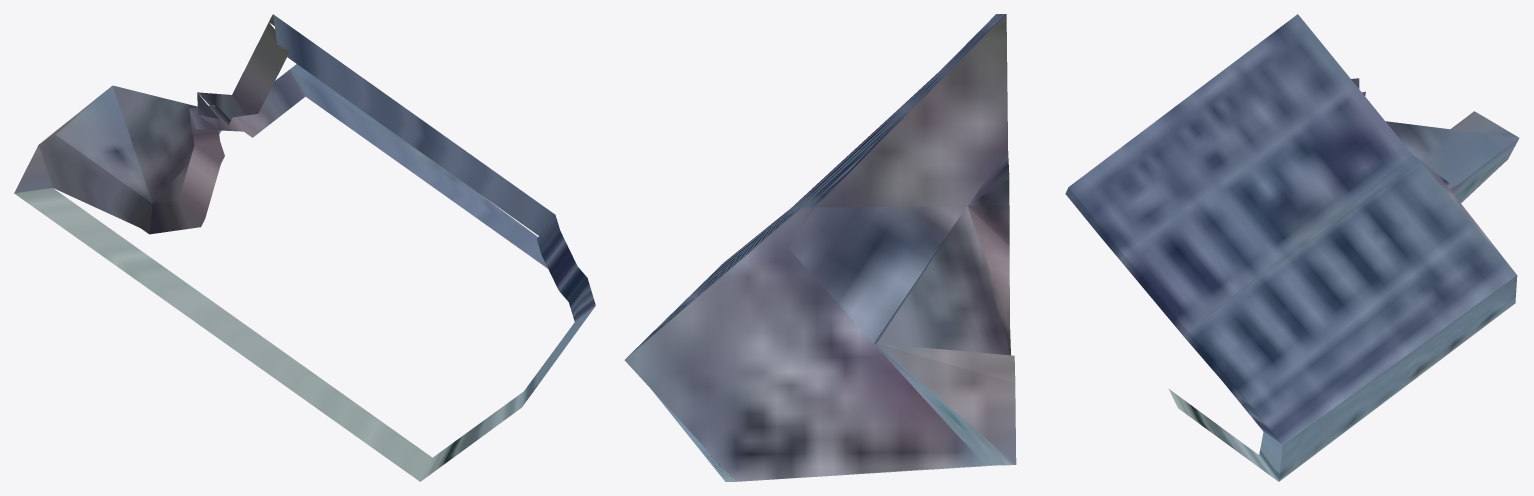
3 views of the same model, side by side, from view 1: azimuth 30°, elevation 25°; view 2: azimuth 150°, elevation 25°; view 3: azimuth 270°, elevation 25° (orthographic). The views are drawn at different scales.
Size of the model in its own units: 28.8 by 27.26 by 30.26.
1 material, 1 textured.
